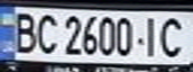0: (115, 14, 139, 57), (97, 14, 118, 57)
2: (57, 11, 84, 56)
6: (78, 12, 100, 56)
B: (6, 9, 39, 54)
C: (154, 14, 193, 58), (30, 10, 60, 55)
I: (136, 14, 166, 58)
